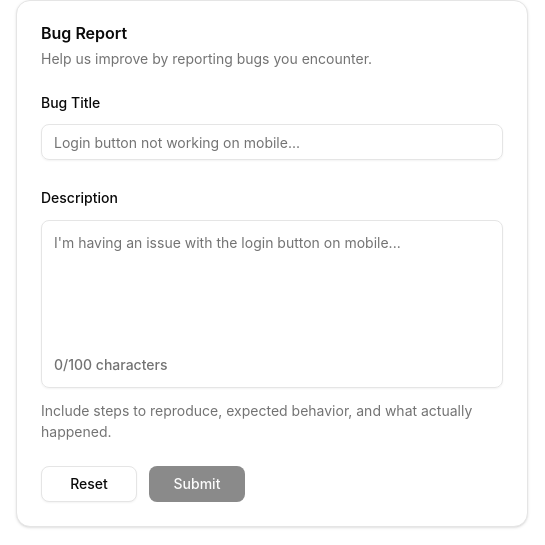
Test: BugReportForm › form display and validation › clears fields when Reset button is clicked
Step 1. Type "My bug title" into the field labelled "Bug Title" → (272, 142), box [41, 124, 503, 160]
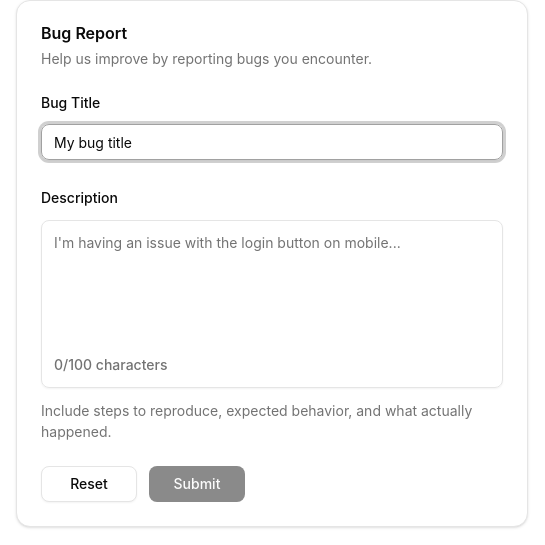
Step 2. Type "Some description text here" into the text box labelled "Description" → (272, 284), box [42, 220, 502, 348]
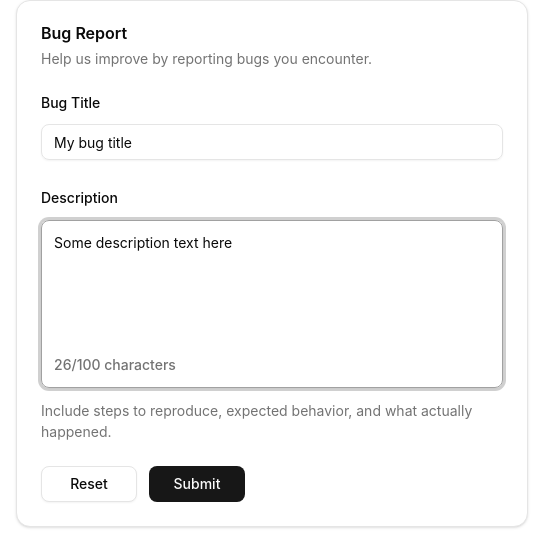
Step 3. Click the button "Reset" → (89, 484), box [41, 466, 137, 502]
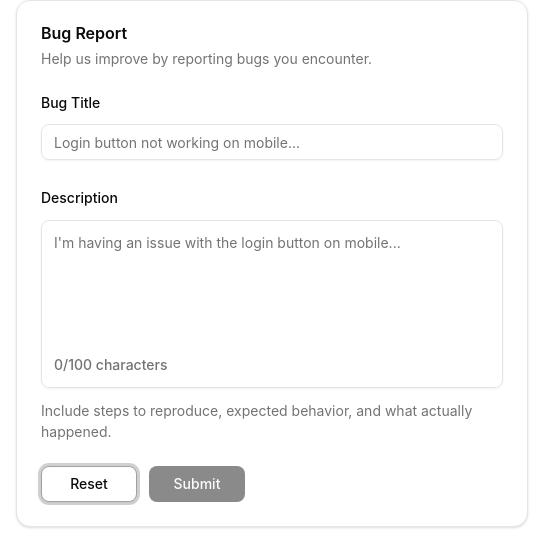
Check: the field labelled "Bug Title" is empty, box [41, 124, 503, 160]
Check: the text box labelled "Description" is empty, box [42, 220, 502, 348]
